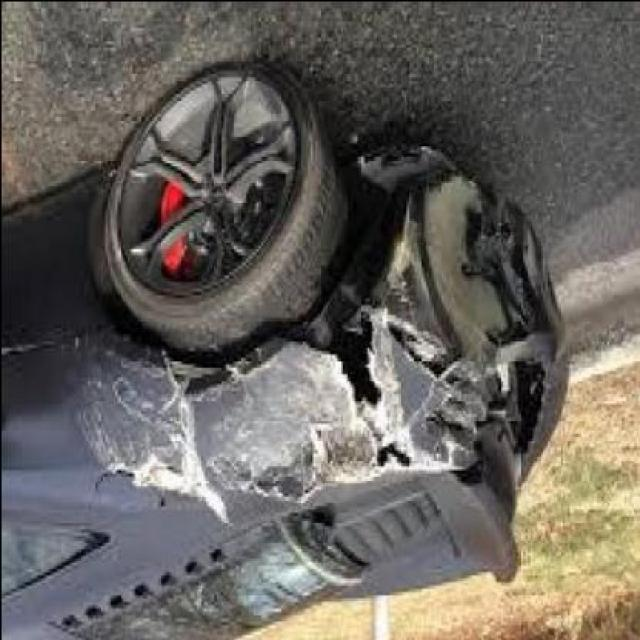damage: (70, 130, 572, 528)
